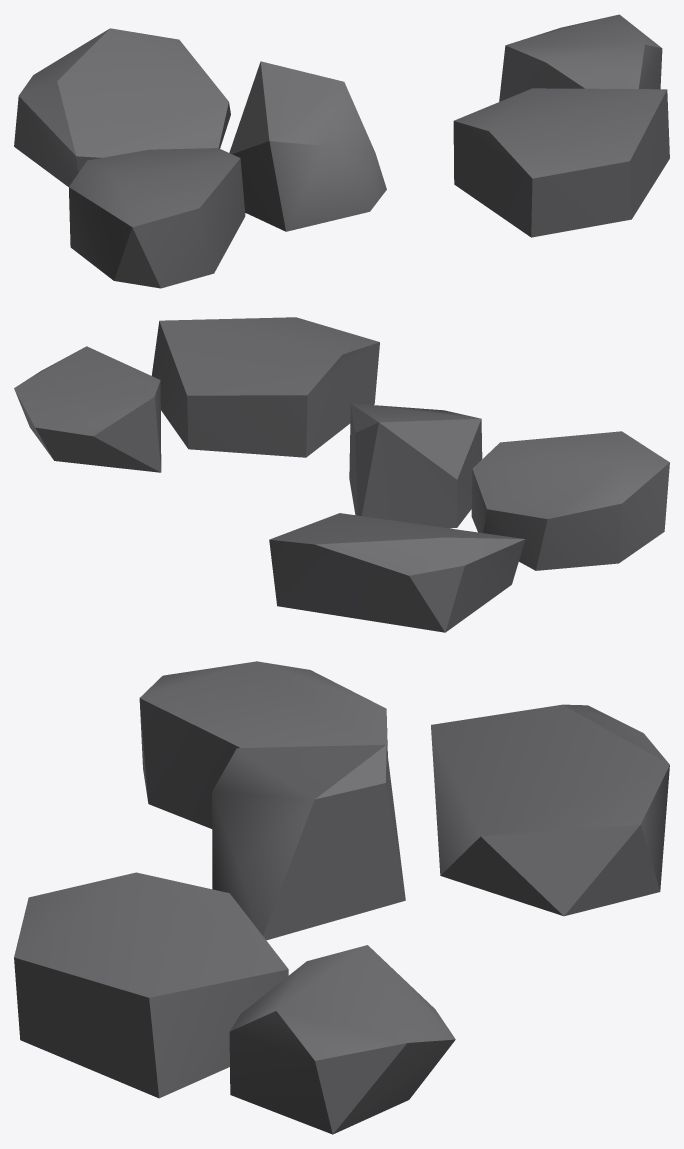
The model's file is Stone_08.fbx.
The picture shows the model from 3 angles, top to bottom: view 1: azimuth 30°, elevation 25°; view 2: azimuth 150°, elevation 25°; view 3: azimuth 270°, elevation 25°; orthographic projection. The views are drawn at different scales.
Visible parts, largest first — view 1: Stone_08; view 2: Stone_08; view 3: Stone_08.
Boxes of the visible parts, x1,y1,x2,y2 form: Stone_08: (14,14,669,288); Stone_08: (14,317,669,632); Stone_08: (14,661,669,1134).
Size of the model in its own units: 247 by 44.25 by 178.
